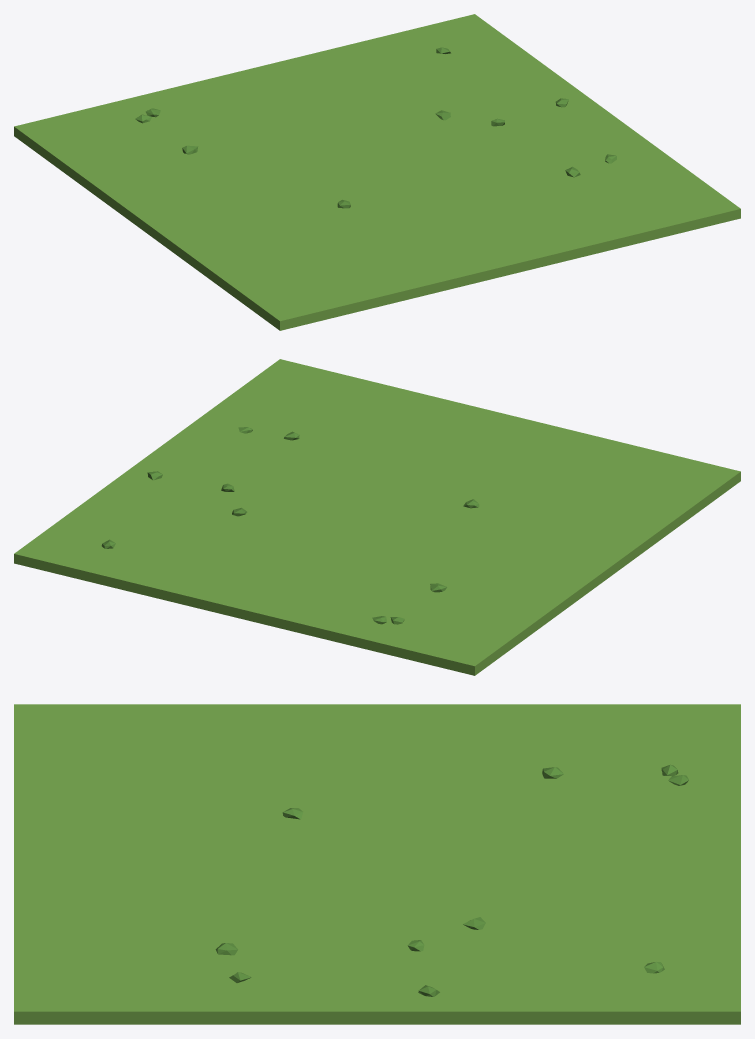
The model's file is ENV_Tile_Grass.fbx.
3 views of the same model, one above another, from view 1: azimuth 30°, elevation 25°; view 2: azimuth 150°, elevation 25°; view 3: azimuth 270°, elevation 25° (orthographic). The views are drawn at different scales.
Visible parts, largest first — view 1: ENV_Tile_Grass; view 2: ENV_Tile_Grass; view 3: ENV_Tile_Grass.
Part boxes in pixels (left/top/right/bottom): ENV_Tile_Grass: left=14, top=14, right=740, bottom=330; ENV_Tile_Grass: left=14, top=359, right=740, bottom=675; ENV_Tile_Grass: left=14, top=704, right=740, bottom=1024.
Size of the model in its own units: 10 by 0.3164 by 10.
